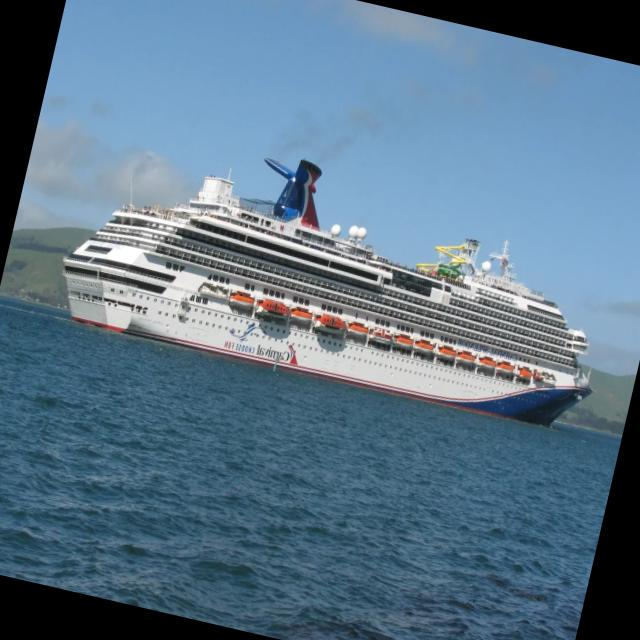Cruise: (63, 158, 591, 426)
